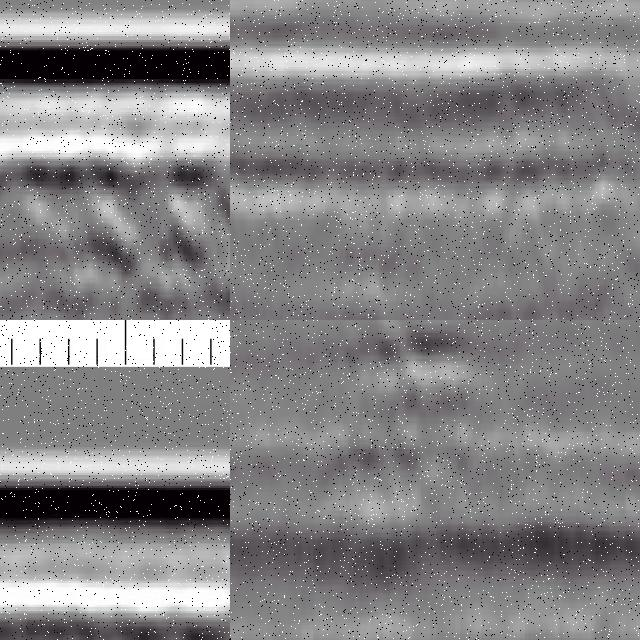loose: (1, 147, 231, 299)
